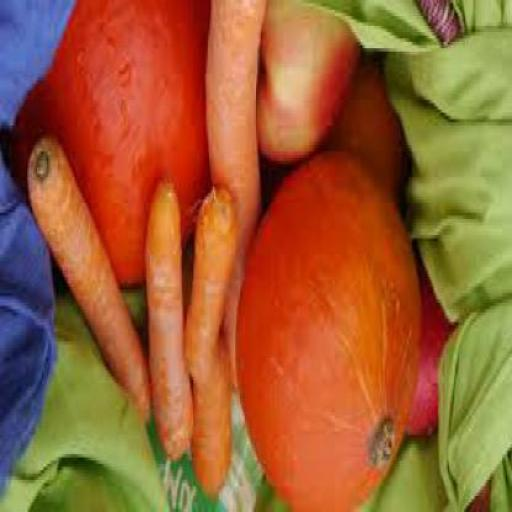biodegradable: (234, 154, 420, 511), (8, 3, 207, 290), (24, 142, 147, 428), (203, 4, 266, 392), (179, 190, 238, 503), (253, 3, 359, 171), (143, 183, 195, 464), (401, 258, 457, 447), (325, 62, 397, 200)
